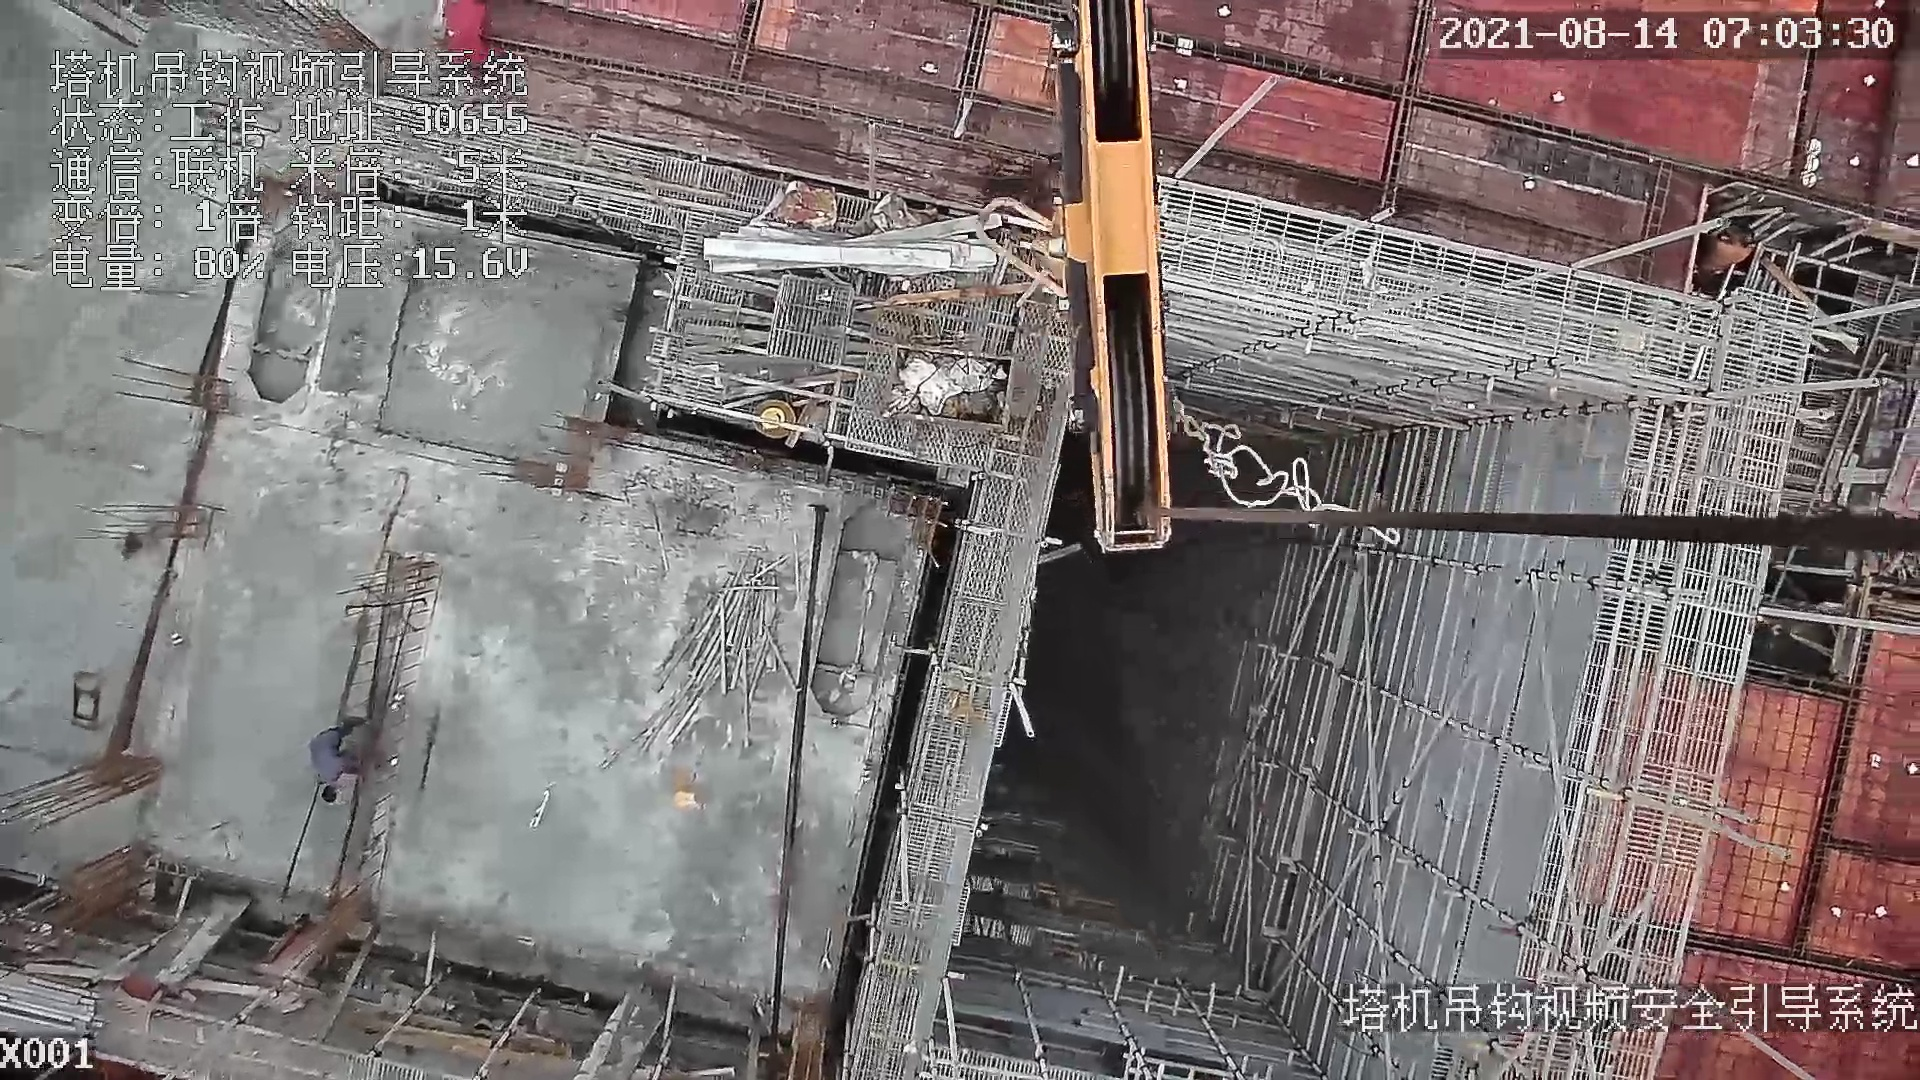hook: (986, 1, 1176, 554)
person: (304, 717, 368, 805)
